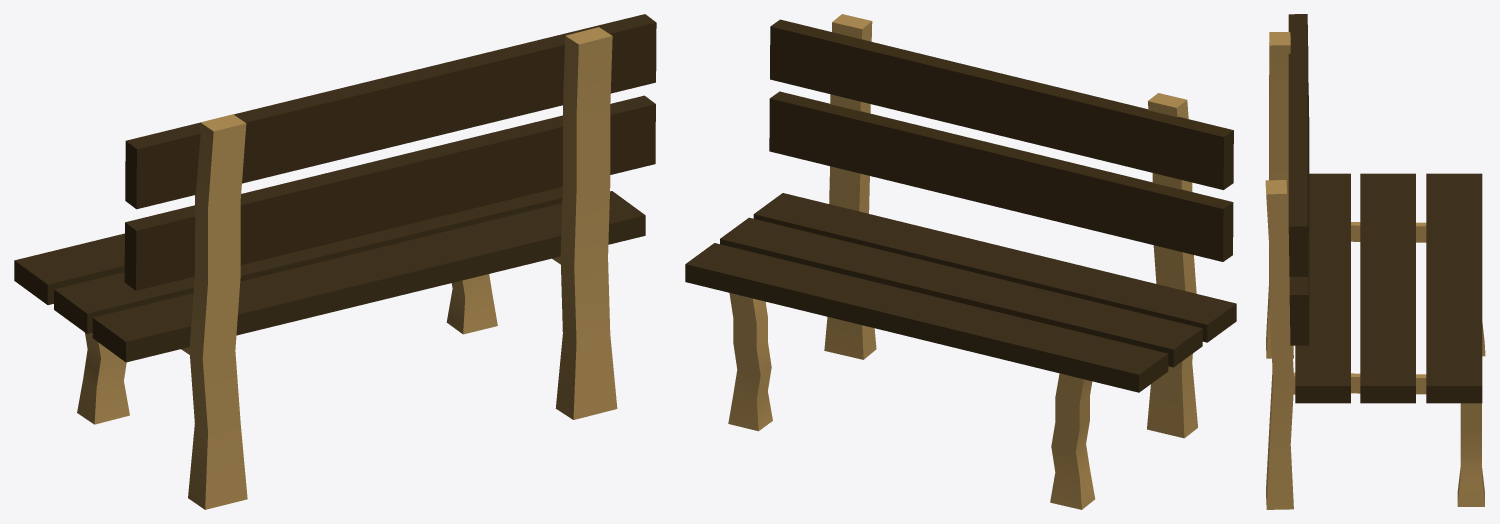
The model's file is lawka.fbx.
3 views of the same model, side by side, from view 1: azimuth 30°, elevation 25°; view 2: azimuth 150°, elevation 25°; view 3: azimuth 270°, elevation 25° (orthographic). The views are drawn at different scales.
Visible parts, largest first — view 1: Box007; view 2: Box007; view 3: Box007.
Part boxes in pixels (box(x1,y1,x2,y2)): Box007: box(14, 14, 656, 509); Box007: box(685, 14, 1236, 509); Box007: box(1265, 14, 1485, 509).
Size of the model in its own units: 71.13 by 48.34 by 30.74.
